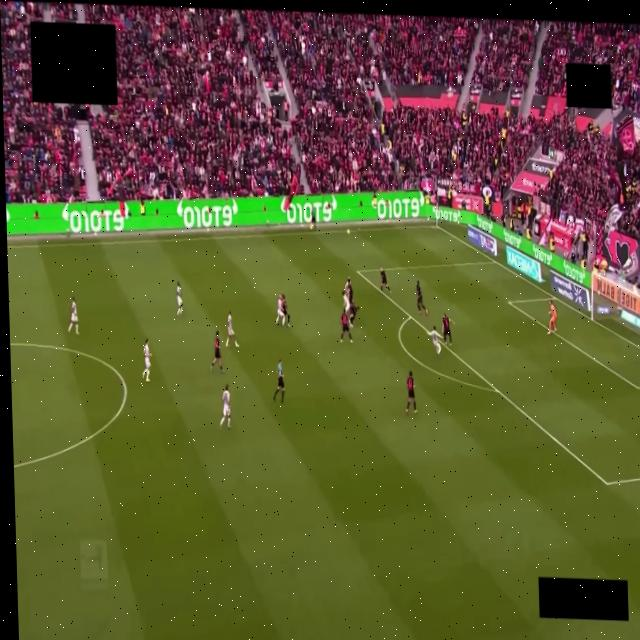ball: (346, 229, 351, 235)
player: (210, 331, 223, 373), (219, 385, 230, 428), (406, 372, 416, 414), (416, 280, 427, 314), (68, 298, 78, 334), (142, 339, 150, 381), (428, 327, 440, 354), (225, 312, 234, 347), (341, 311, 351, 342), (547, 300, 556, 334), (280, 294, 289, 326), (442, 314, 451, 345), (275, 296, 284, 325), (380, 268, 389, 293), (349, 303, 358, 327), (344, 278, 352, 303), (176, 282, 182, 315), (343, 291, 351, 313)
referee: (272, 360, 283, 402)
